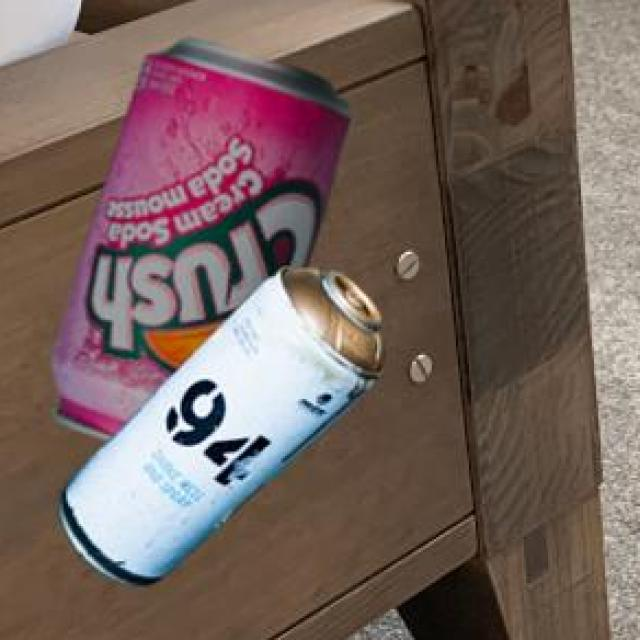logam: (49, 36, 347, 437), (56, 264, 380, 582)
